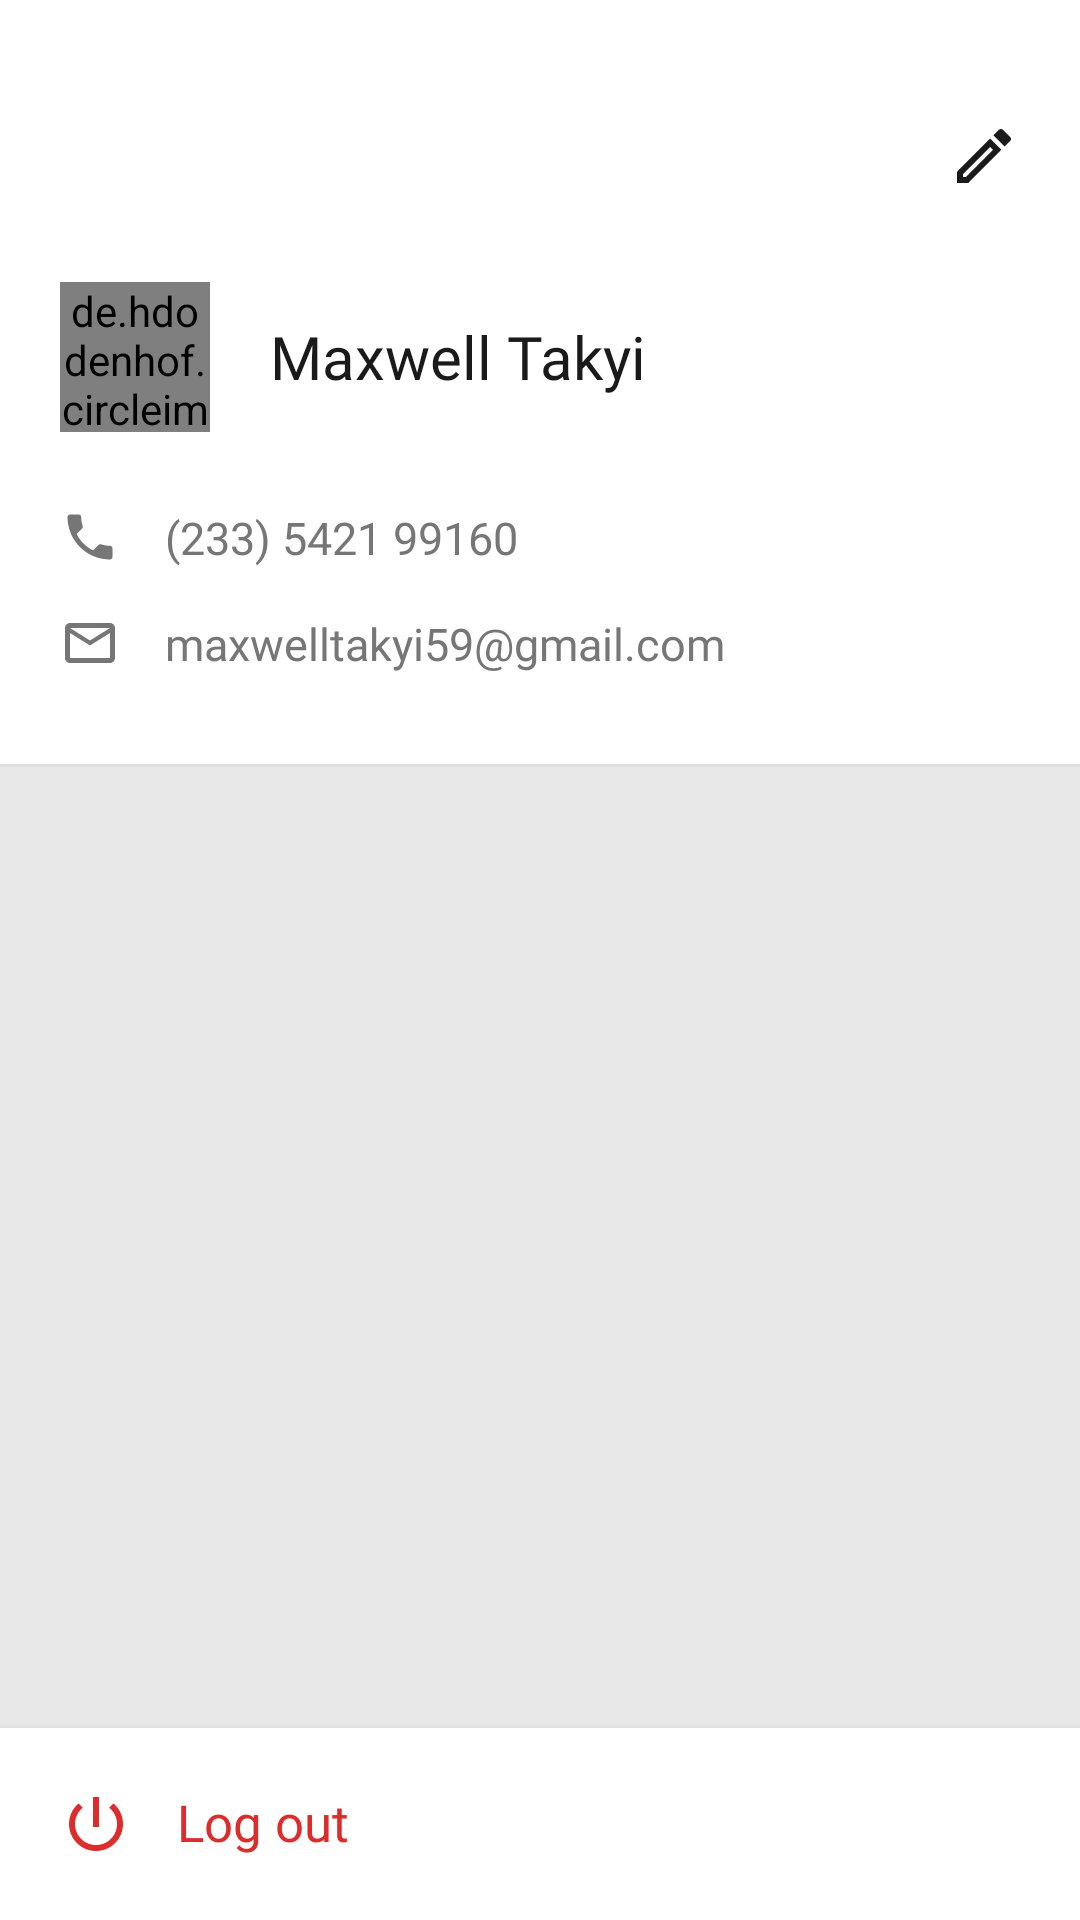

Named icons in this screenshot (1080*1920) and their bounding boxes, {"left": x1, "top": y1, "right": x2, "bottom": y2}:
edit: {"left": 957, "top": 129, "right": 1011, "bottom": 183}
